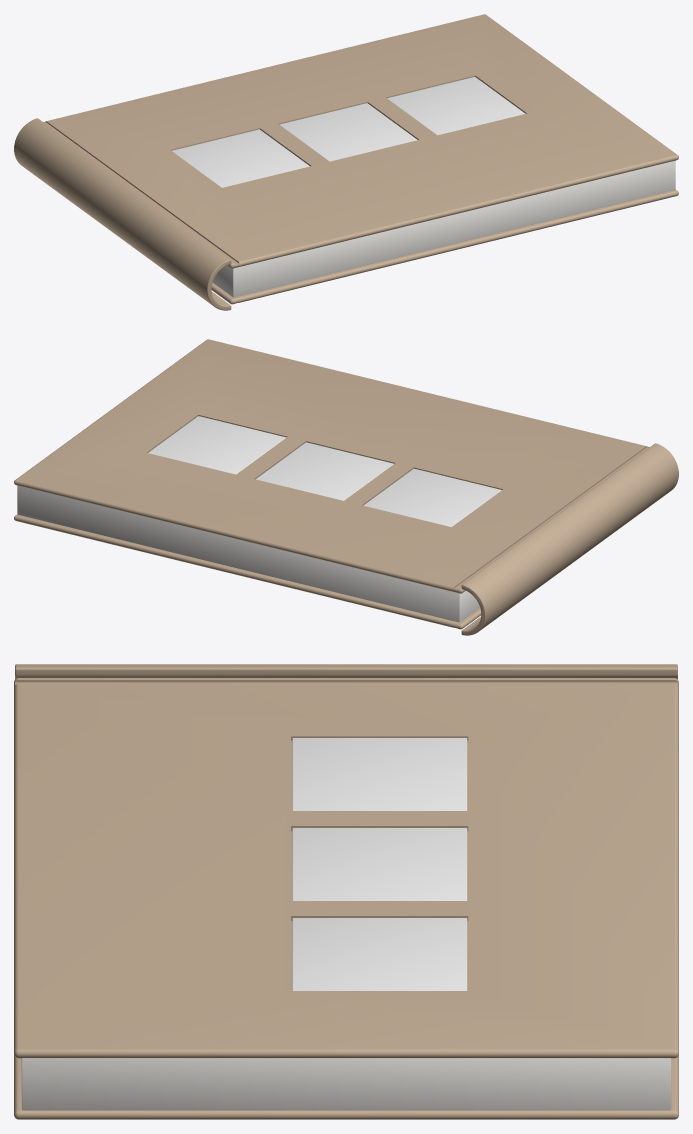
The model's file is trilogy--landscape.glb.
3 renders of one model, top to bottom at view 1: azimuth 30°, elevation 25°; view 2: azimuth 150°, elevation 25°; view 3: azimuth 270°, elevation 25°, orthographic. The views are drawn at different scales.
Visible parts, largest first — view 1: CoverFront, Pages, Spine, Photo2, Photo3, Photo1, CoverBack; view 2: CoverFront, Pages, Spine, Photo2, Photo3, Photo1, CoverBack; view 3: CoverFront, Pages, Photo1, Photo2, Photo3, Spine, CoverBack.
Boxes of the visible parts, x1=… form: CoverFront: x1=43, y1=14, x2=678, y2=268; Pages: x1=213, y1=160, x2=675, y2=297; Spine: x1=14, y1=118, x2=231, y2=310; Photo2: x1=279, y1=103, x2=417, y2=161; Photo3: x1=387, y1=77, x2=525, y2=135; Photo1: x1=172, y1=129, x2=309, y2=187; CoverBack: x1=211, y1=189, x2=678, y2=304; CoverFront: x1=14, y1=339, x2=649, y2=593; Pages: x1=17, y1=485, x2=479, y2=622; Spine: x1=461, y1=443, x2=678, y2=635; Photo2: x1=256, y1=442, x2=393, y2=500; Photo3: x1=148, y1=416, x2=286, y2=474; Photo1: x1=364, y1=468, x2=501, y2=526; CoverBack: x1=14, y1=514, x2=481, y2=629; CoverFront: x1=14, y1=678, x2=678, y2=1058; Pages: x1=21, y1=1058, x2=671, y2=1110; Photo1: x1=292, y1=738, x2=467, y2=810; Photo2: x1=292, y1=828, x2=467, y2=900; Photo3: x1=292, y1=918, x2=467, y2=990; Spine: x1=15, y1=664, x2=677, y2=679; CoverBack: x1=14, y1=1055, x2=678, y2=1119.
Bounding box in the file's own units: 0.4208 × 0.043 × 0.3.
